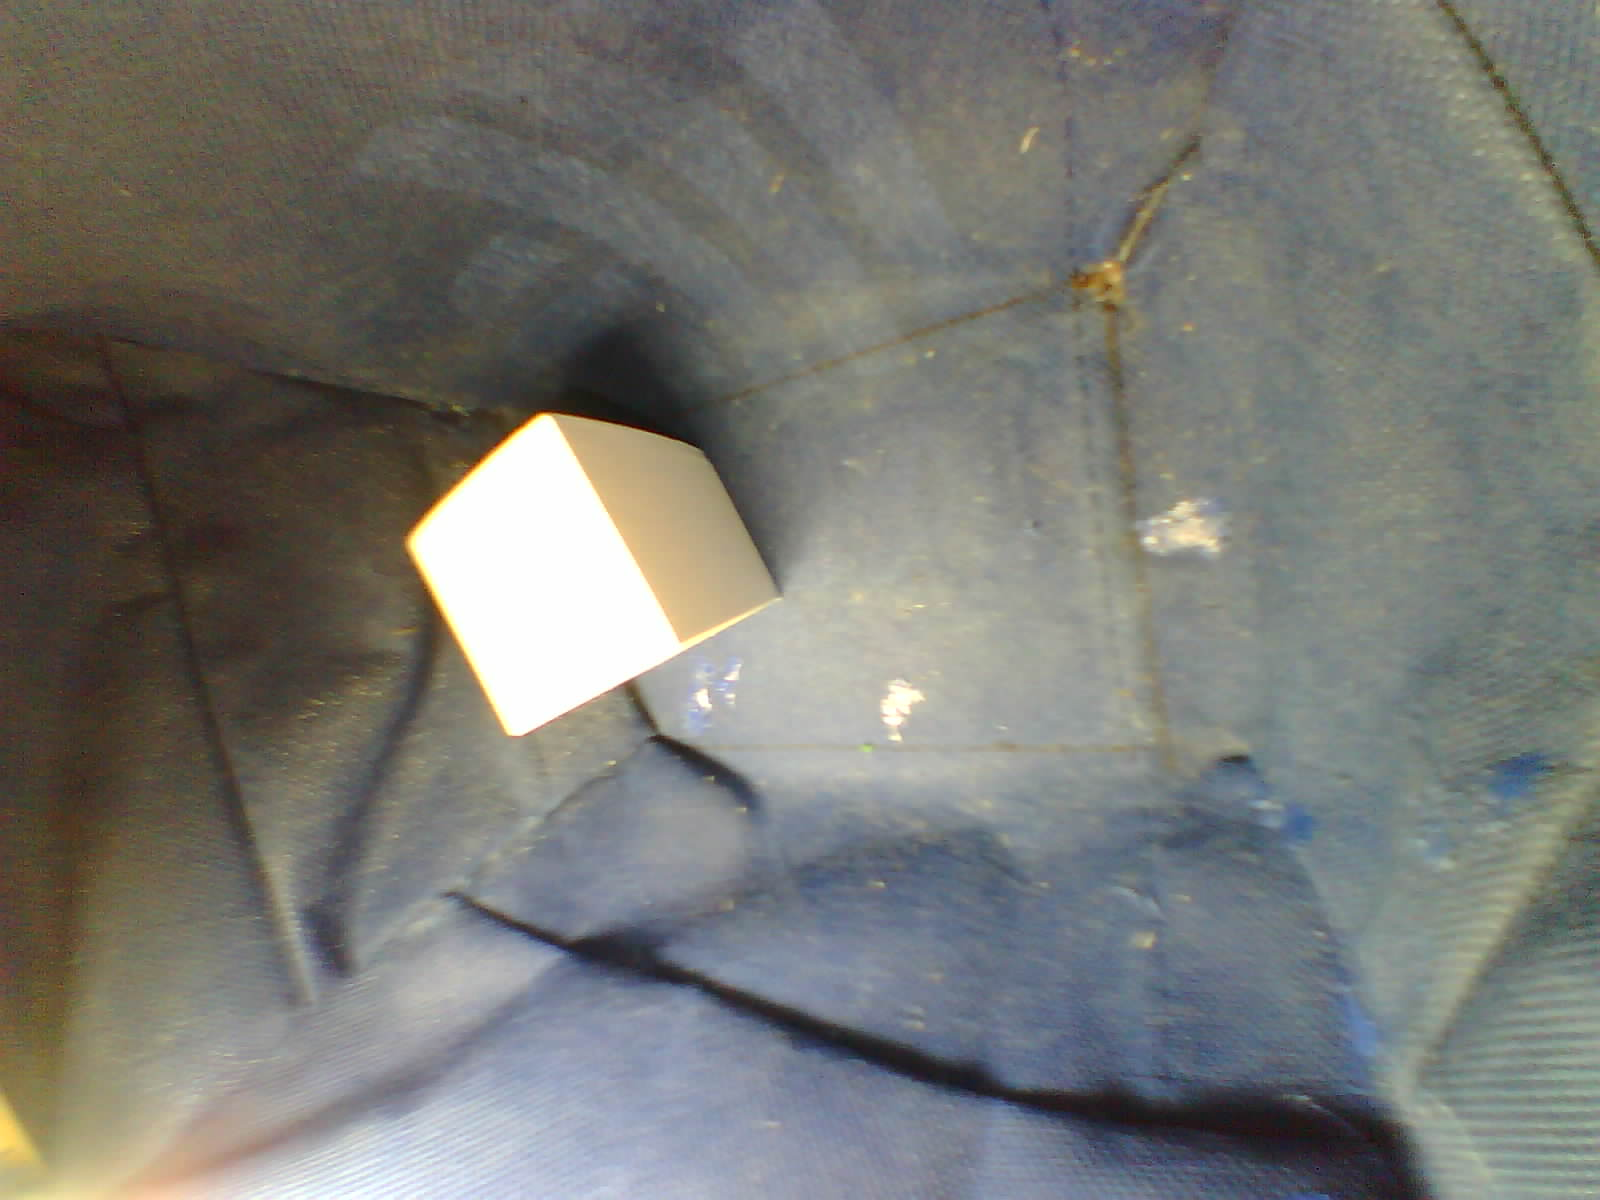cube-hard: (393, 401, 797, 747)
